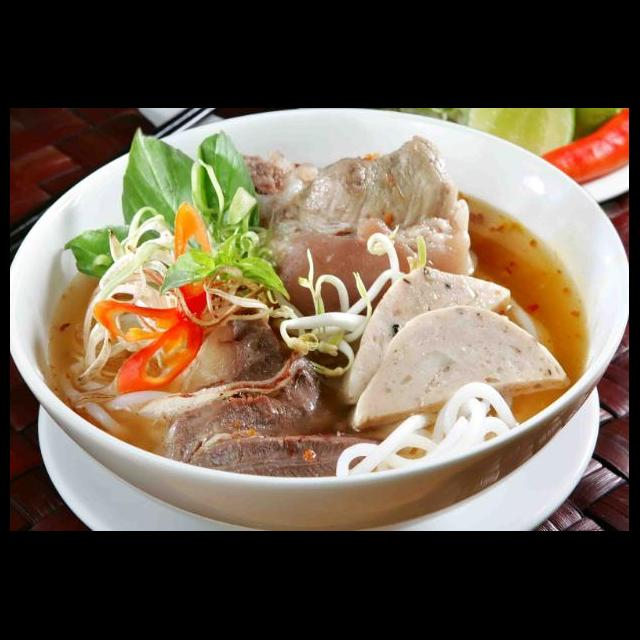bun: (332, 376, 526, 490), (55, 368, 176, 454)
bun bo: (43, 138, 594, 519)
thit bo: (160, 352, 344, 470), (178, 429, 396, 492), (176, 294, 296, 402)
thit heo: (282, 128, 462, 240)
